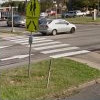crosswalk: (3, 35, 90, 58)
